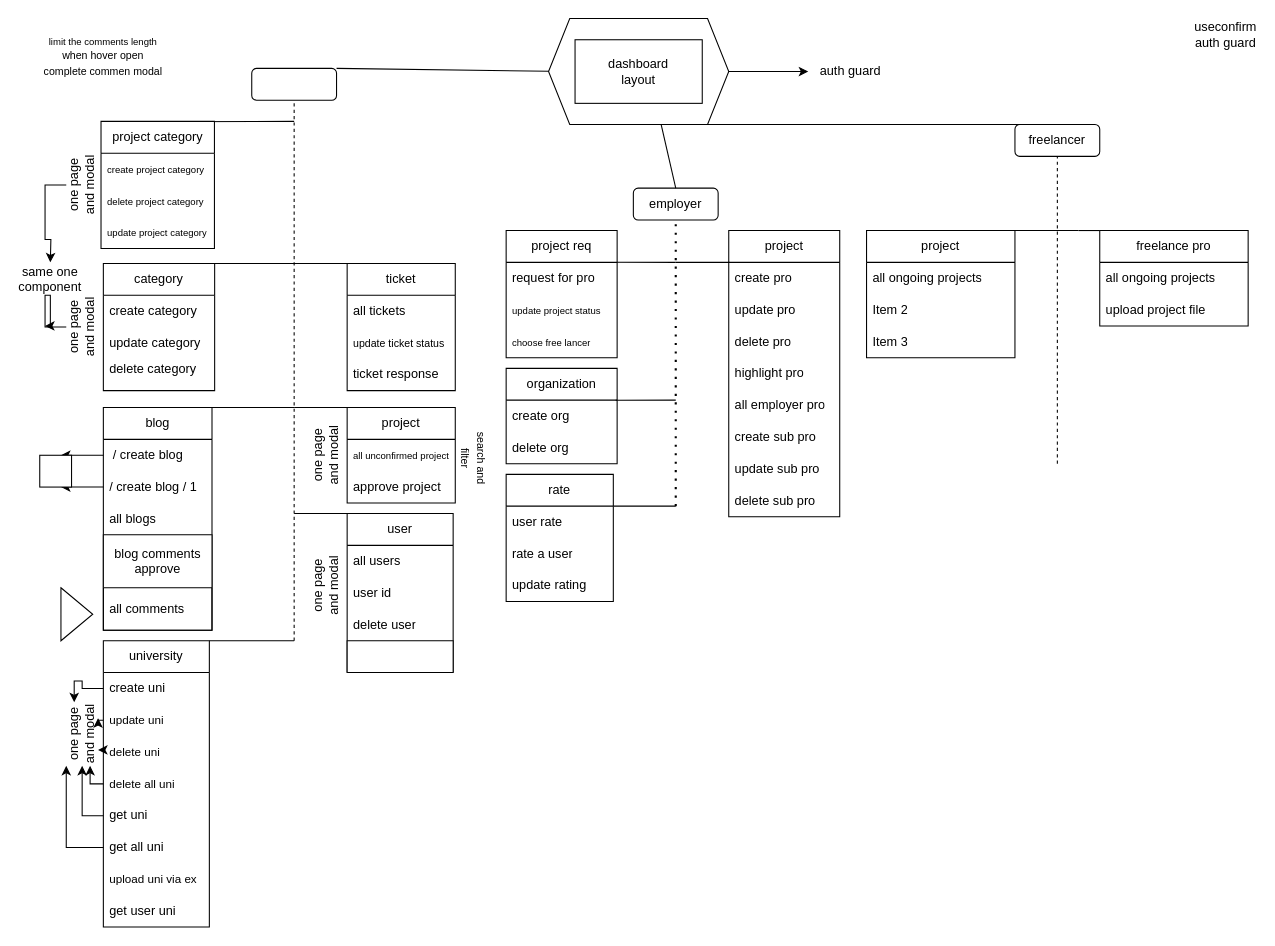
Image size: 1275x946. Some labels were removed from this diagram. The shapes that lost their labels are listed below. From the top down, each one's centre as x and y in pixels, then its label:
(x=294, y=83): admin
(x=55, y=470): one component
(x=76, y=614): how
(x=399, y=656): profile
